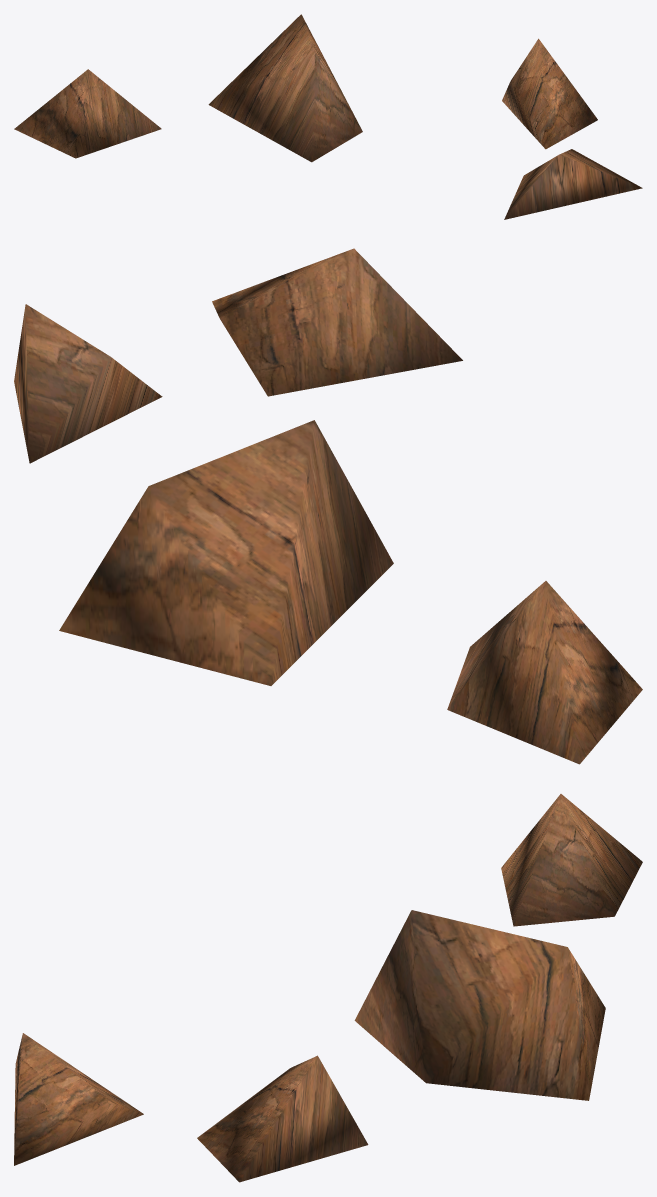
Rendered from rock_tatt_jundland_pebble_l3.fbx.
3 views of the same model, one above another, from view 1: azimuth 30°, elevation 25°; view 2: azimuth 150°, elevation 25°; view 3: azimuth 270°, elevation 25° (orthographic). The views are drawn at different scales.
Visible parts, largest first — view 1: mesh_node; view 2: mesh_node; view 3: mesh_node.
Part boxes in pixels (x1,y1,x2,y2): mesh_node: [14, 14, 642, 219]; mesh_node: [14, 248, 642, 764]; mesh_node: [14, 794, 642, 1182].
Bounding box in the file's own units: 0.8331 × 0.1649 × 0.6897.
